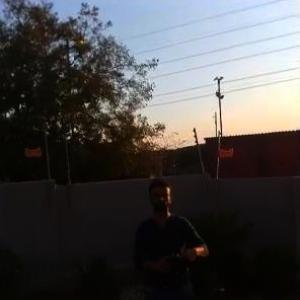follow: (128, 163, 213, 299)
